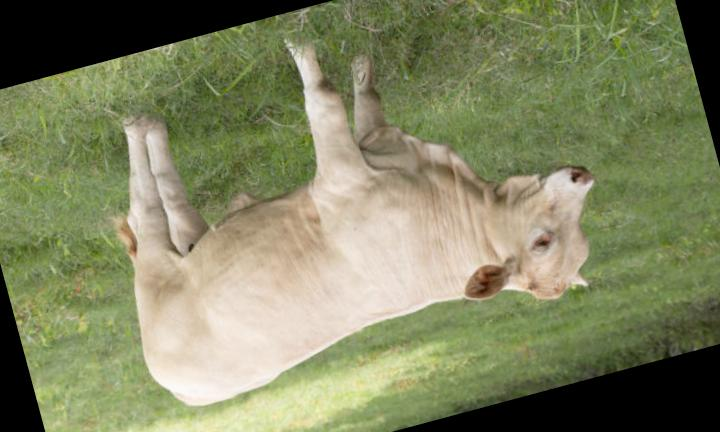Charolais: (119, 47, 593, 405)
